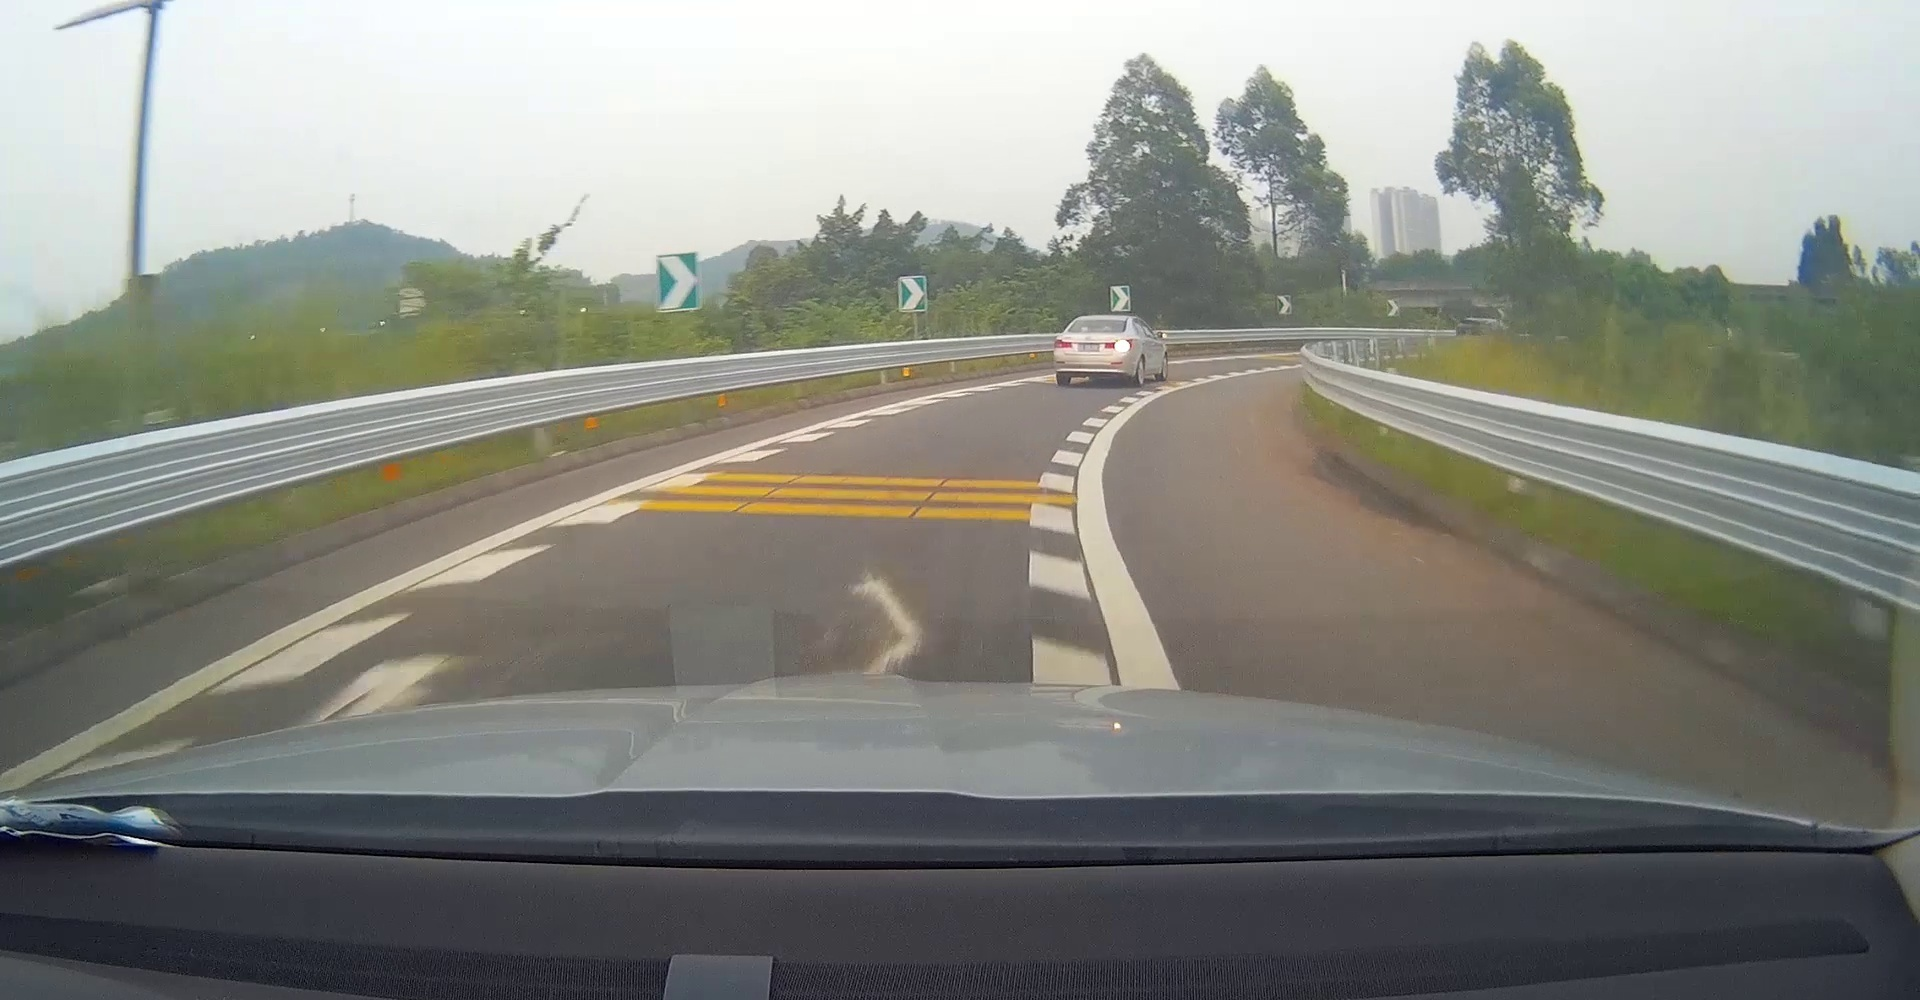L_light: (1054, 340, 1072, 349)
R_light: (1103, 340, 1130, 352)
T_light: (1088, 329, 1098, 332)
day-right: (1053, 315, 1131, 386)
